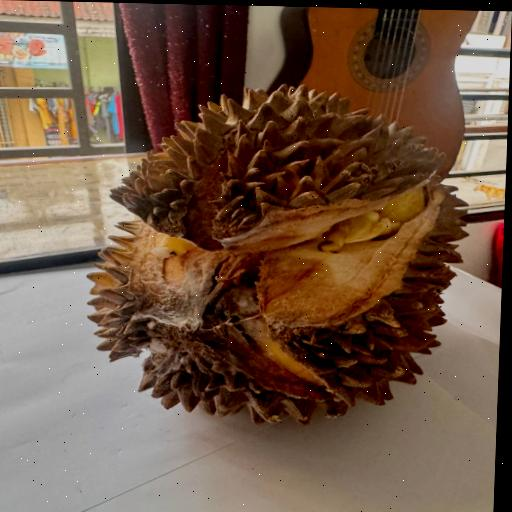rot: (0, 80, 507, 438)
